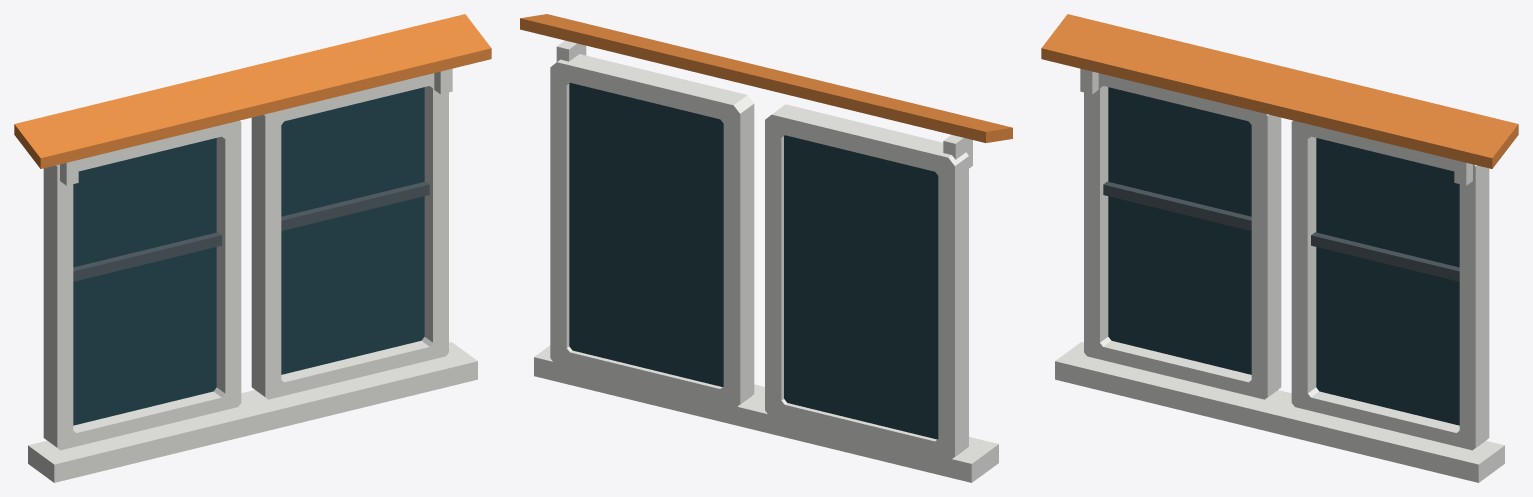
The model's file is FacadeResidential.fbx.
The picture shows the model from 3 angles, left to right: view 1: azimuth 30°, elevation 25°; view 2: azimuth 150°, elevation 25°; view 3: azimuth 330°, elevation 25°; orthographic projection. The views are drawn at different scales.
Parts seen in each view (by area): view 1: FacadeResidential_SC_Glass, FacadeResidential_SC_White, FacadeResidential_SC_Orange, FacadeResidential_SC_Metal; view 2: FacadeResidential_SC_Glass, FacadeResidential_SC_White, FacadeResidential_SC_Orange; view 3: FacadeResidential_SC_Glass, FacadeResidential_SC_White, FacadeResidential_SC_Orange, FacadeResidential_SC_Metal.
Boxes of the visible parts, x1=… form: FacadeResidential_SC_Glass: x1=73, y1=87, x2=424, y2=425; FacadeResidential_SC_White: x1=28, y1=68, x2=477, y2=482; FacadeResidential_SC_Orange: x1=14, y1=14, x2=491, y2=168; FacadeResidential_SC_Metal: x1=73, y1=181, x2=429, y2=281; FacadeResidential_SC_Glass: x1=569, y1=82, x2=938, y2=439; FacadeResidential_SC_White: x1=534, y1=40, x2=998, y2=482; FacadeResidential_SC_Orange: x1=520, y1=14, x2=1012, y2=142; FacadeResidential_SC_Glass: x1=1108, y1=87, x2=1459, y2=425; FacadeResidential_SC_White: x1=1055, y1=68, x2=1504, y2=482; FacadeResidential_SC_Orange: x1=1041, y1=14, x2=1518, y2=168; FacadeResidential_SC_Metal: x1=1103, y1=181, x2=1459, y2=281.
Size of the model in its own units: 2.82 by 2.05 by 0.2885.
